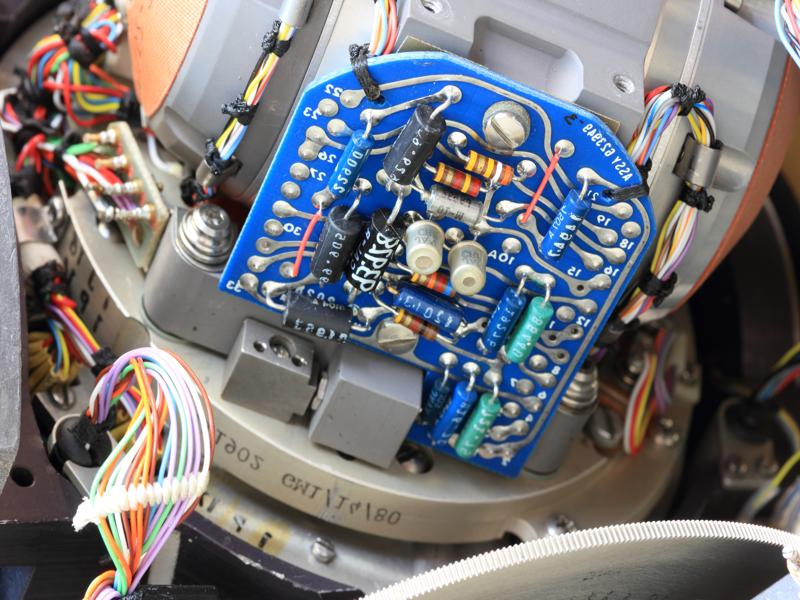Resistor: (426, 157, 488, 200), (459, 145, 522, 187), (386, 305, 449, 344), (406, 262, 462, 301)
